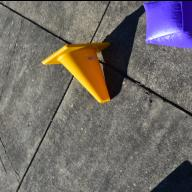cone: (41, 41, 111, 102)
cube: (143, 0, 192, 48)
